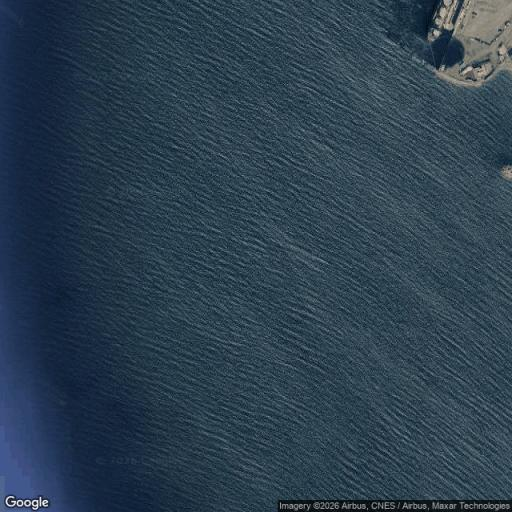ship: (427, 0, 455, 43)
